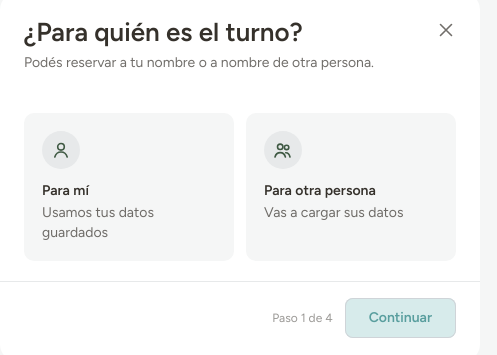
PedirTurnoForm › 'Para mí' + Continuar lleva a la pregunta de si ya se atendió antes
The width and height of the screenshot is (497, 355).
Click the text "Para mí": (65, 190) [42,182,89,198]
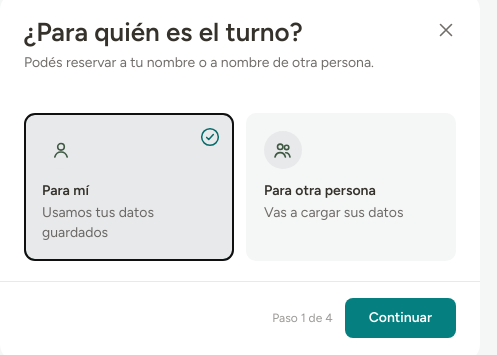
Click the button "Continuar": (400, 318) [345,298,456,338]
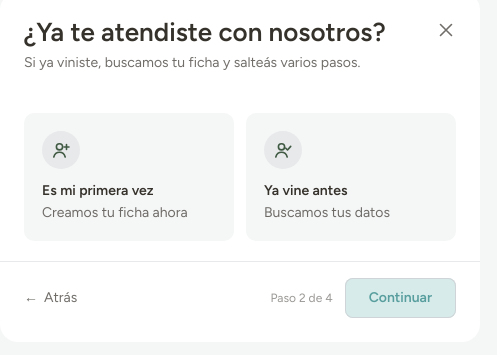
Now the heading "¿Ya te atendiste con nosotros?" is shown, box [24,16,386,48]
